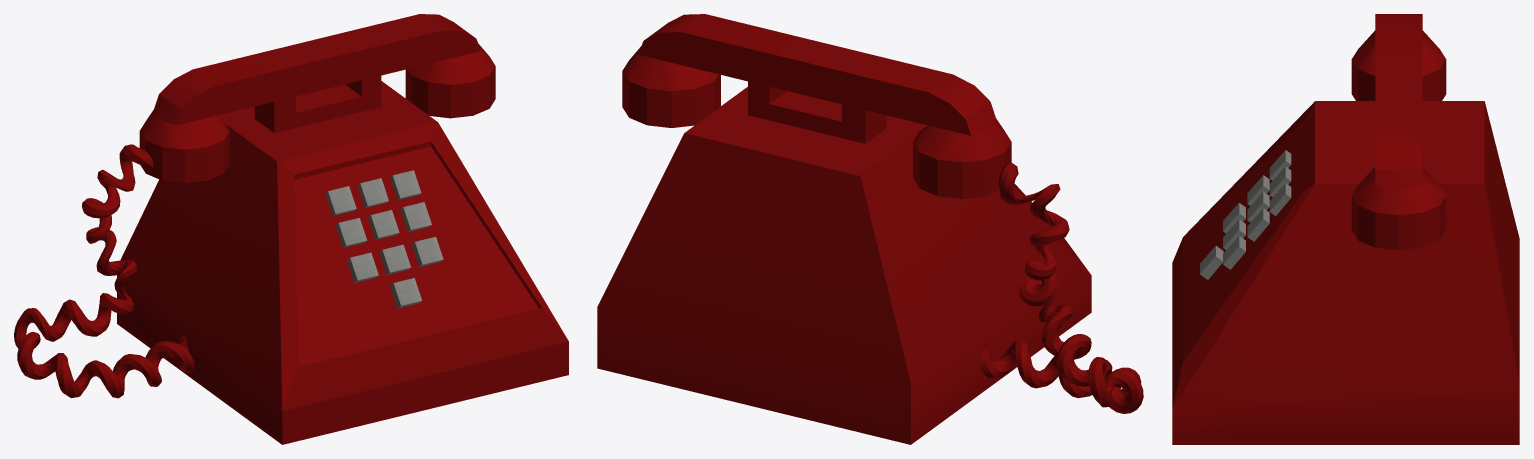
The model's file is telephone_surfaced.fbx.
3 views of the same model, side by side, from view 1: azimuth 30°, elevation 25°; view 2: azimuth 150°, elevation 25°; view 3: azimuth 270°, elevation 25° (orthographic). The views are drawn at different scales.
Visible parts, largest first — view 1: pCube1, pCylinder3, pHelix1, pCube2, pCube12, pCube9, pCube11, pCube10, pCube8, pCube7, pCube6, pCube4 (+2 smaller); view 2: pCube1, pCylinder3, pHelix1, pCube2; view 3: pCube1, pCylinder3, pCube12, pCube9, pCube6, pCube5, pCube8, pCube10, pCube11, pCube4, pCube7, pCube3.
Part boxes in pixels (box(x1,y1,x2,y2)): pCube1: box(117, 81, 568, 444); pCylinder3: box(139, 14, 495, 183); pHelix1: box(14, 144, 195, 398); pCube2: box(254, 75, 381, 133); pCube12: box(390, 278, 422, 308); pCube9: box(411, 236, 443, 266); pCube11: box(379, 244, 410, 274); pCube10: box(347, 252, 378, 282); pCube8: box(368, 210, 399, 239); pCube7: box(335, 218, 367, 247); pCube6: box(400, 202, 431, 231); pCube4: box(357, 178, 388, 207); pCube1: box(597, 87, 1091, 444); pCylinder3: box(622, 14, 1011, 198); pHelix1: box(980, 162, 1143, 413); pCube2: box(748, 81, 886, 143); pCube1: box(1172, 101, 1519, 444); pCylinder3: box(1351, 14, 1446, 250); pCube12: box(1200, 245, 1223, 279); pCube9: box(1223, 236, 1245, 269); pCube6: box(1247, 208, 1269, 241); pCube5: box(1269, 183, 1291, 216); pCube8: box(1247, 191, 1269, 222); pCube10: box(1223, 202, 1245, 233); pCube11: box(1223, 219, 1245, 249); pCube4: box(1269, 166, 1291, 197); pCube7: box(1247, 175, 1269, 205); pCube3: box(1269, 150, 1291, 180).
Size of the model in its own units: 78.36 by 44.79 by 47.78.
Materials: 2 (1 with a texture image).
